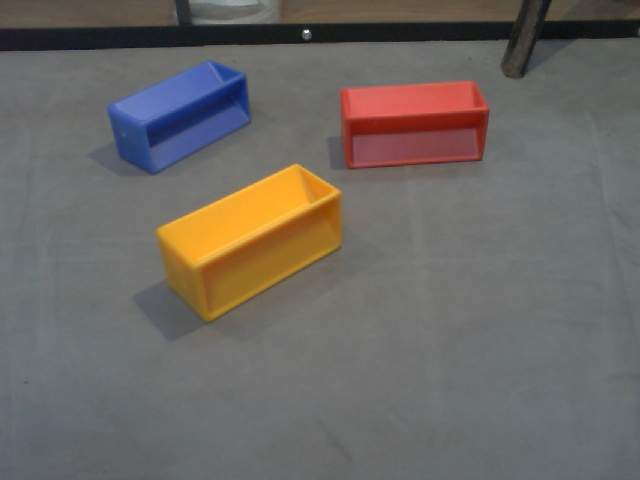BlueSample: (108, 57, 253, 175)
RedSample: (337, 80, 490, 174)
YellowSample: (154, 160, 345, 327)
